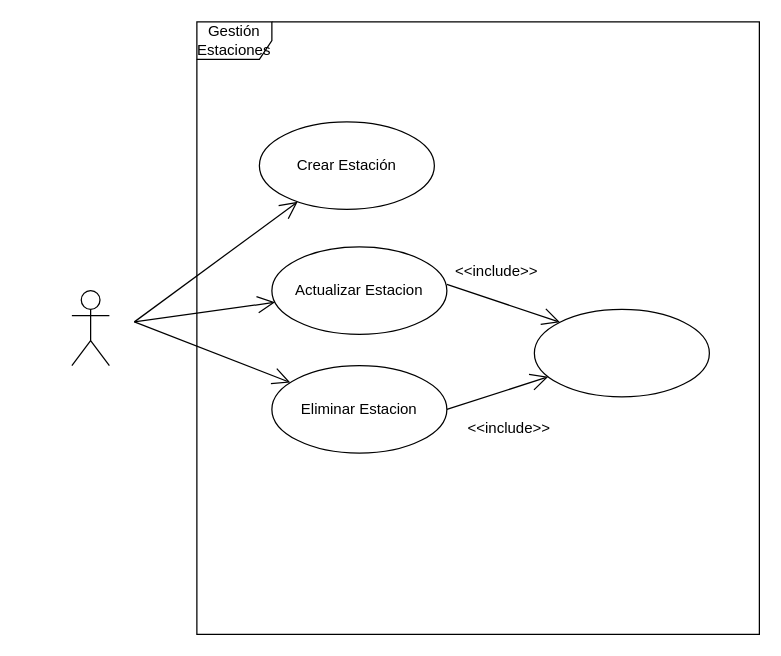
The diagram is 781 pixels wide and 656 high, and some of its shapes have lost their labels. The shapes that lost their labels are listed below. From the top down, each one's box as (x1, y1, x2, y2) in pixels, then its label:
(71, 289, 109, 366): <<Admin-Superior>>
(533, 308, 709, 397): Buscar Estacion
